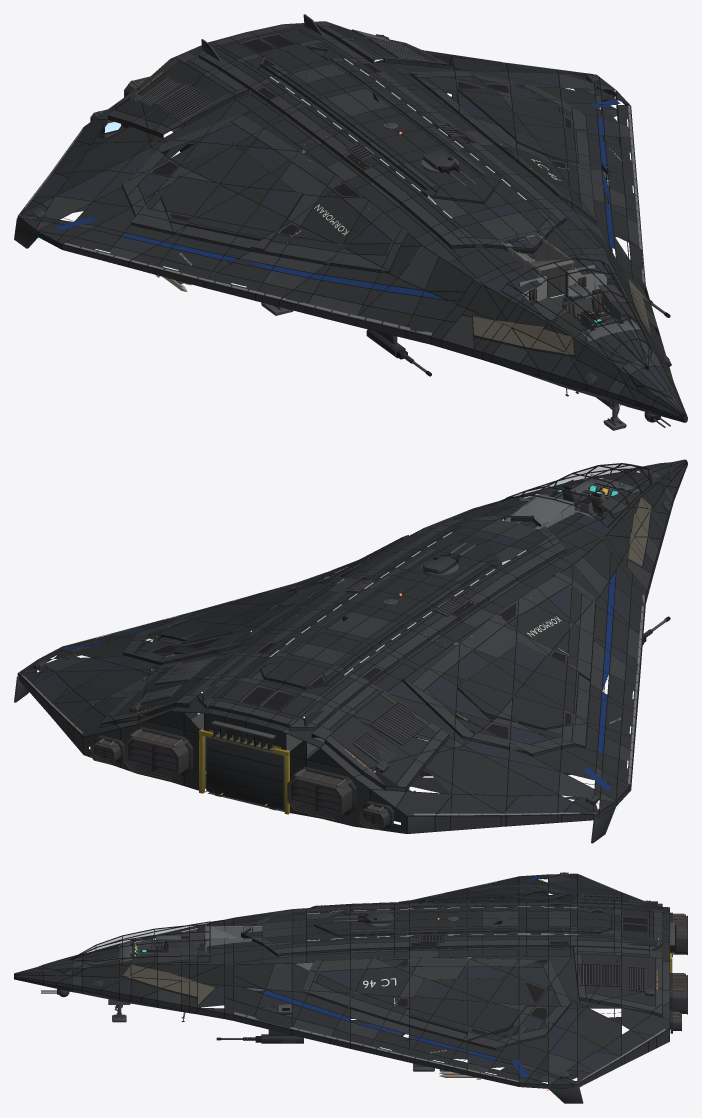
The model's file is Kormoran.glb.
3 renders of one model, top to bottom at view 1: azimuth 30°, elevation 25°; view 2: azimuth 150°, elevation 25°; view 3: azimuth 270°, elevation 25°, orthographic. The views are drawn at different scales.
Parts seen in each view (by area): view 1: Hitzekragen.004, Duesenblock.008, Klappenfuge.104, Rumpf.003, Antenne.003, Abwurfschiene.002, Akzentbalken.004, Innendetail Wand.001, Kantenleiste.060, Deckenkonsole.001, Beschriftung.013, Armlehnenpolster.004; view 2: Hitzekragen.004, Duesenblock.008, Klappenfuge.104, Rumpf.003, Antenne.003, Rampe Aussenhaut.001, Abwurfschiene.002, Duesenrand.004, Akzentbalken.004, Kantenleiste.060, Bodenrand.002, Deckenkonsole.001 (+2 smaller); view 3: Hitzekragen.004, Duesenblock.008, Klappenfuge.104, Rumpf.003, Antenne.003, Abwurfschiene.002, Akzentbalken.004, Deckenkonsole.001, Kantenleiste.060, Duesenrand.004, Innendetail Wand.001, Beschriftung.013 (+4 smaller).
Boxes of the visible parts, x1=… form: Hitzekragen.004: x1=18, y1=23, x2=687, y2=422; Duesenblock.008: x1=14, y1=14, x2=684, y2=422; Klappenfuge.104: x1=18, y1=21, x2=687, y2=422; Rumpf.003: x1=31, y1=27, x2=683, y2=422; Antenne.003: x1=35, y1=34, x2=670, y2=421; Abwurfschiene.002: x1=97, y1=30, x2=670, y2=427; Akzentbalken.004: x1=55, y1=99, x2=620, y2=299; Innendetail Wand.001: x1=302, y1=149, x2=606, y2=301; Kantenleiste.060: x1=19, y1=50, x2=644, y2=335; Deckenkonsole.001: x1=568, y1=278, x2=639, y2=341; Beschriftung.013: x1=180, y1=58, x2=621, y2=265; Armlehnenpolster.004: x1=529, y1=276, x2=609, y2=322; Hitzekragen.004: x1=19, y1=460, x2=687, y2=828; Duesenblock.008: x1=14, y1=460, x2=687, y2=843; Klappenfuge.104: x1=18, y1=459, x2=687, y2=833; Rumpf.003: x1=31, y1=463, x2=674, y2=833; Antenne.003: x1=36, y1=463, x2=670, y2=826; Rampe Aussenhaut.001: x1=207, y1=737, x2=283, y2=808; Abwurfschiene.002: x1=97, y1=542, x2=666, y2=812; Duesenrand.004: x1=35, y1=503, x2=670, y2=830; Akzentbalken.004: x1=64, y1=571, x2=615, y2=790; Kantenleiste.060: x1=19, y1=594, x2=644, y2=815; Bodenrand.002: x1=199, y1=573, x2=580, y2=814; Deckenkonsole.001: x1=523, y1=477, x2=639, y2=515; Hitzekragen.004: x1=14, y1=873, x2=672, y2=1084; Duesenblock.008: x1=14, y1=872, x2=686, y2=1103; Klappenfuge.104: x1=14, y1=873, x2=669, y2=1088; Rumpf.003: x1=15, y1=877, x2=669, y2=1082; Antenne.003: x1=57, y1=872, x2=676, y2=1078; Abwurfschiene.002: x1=41, y1=894, x2=685, y2=1071; Akzentbalken.004: x1=263, y1=876, x2=541, y2=1077; Deckenkonsole.001: x1=119, y1=928, x2=204, y2=962; Kantenleiste.060: x1=234, y1=873, x2=665, y2=1083; Duesenrand.004: x1=93, y1=872, x2=687, y2=1078; Innendetail Wand.001: x1=206, y1=927, x2=261, y2=990; Beschriftung.013: x1=307, y1=896, x2=577, y2=1052.
Size of the model in its own units: 34.02 by 7.96 by 46.04.
